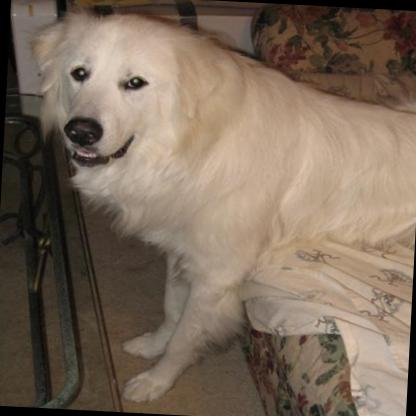Great_Pyrenees: (6, 8, 416, 416)
